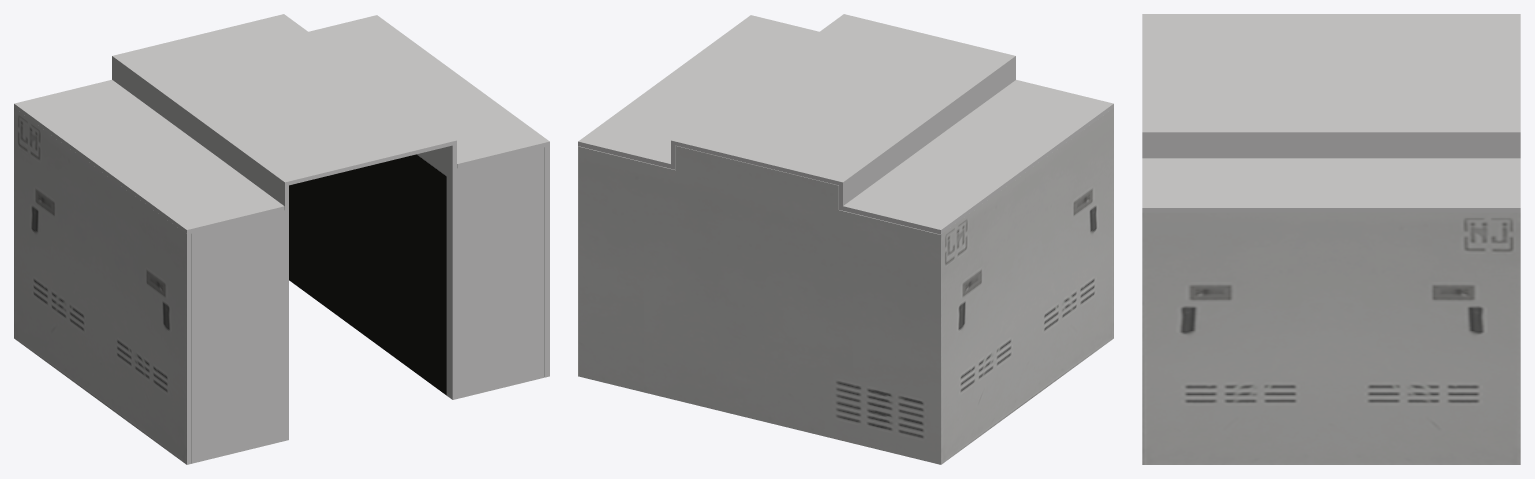
The model's file is YF_LS_daxiangzi.FBX.
The picture shows the model from 3 angles, left to right: view 1: azimuth 30°, elevation 25°; view 2: azimuth 150°, elevation 25°; view 3: azimuth 270°, elevation 25°; orthographic projection. The views are drawn at different scales.
Parts seen in each view (by area): view 1: YF_Model_daxiangzi; view 2: YF_Model_daxiangzi; view 3: YF_Model_daxiangzi.
Boxes of the visible parts, x1,y1,x2,y2 form: YF_Model_daxiangzi: (14, 14, 549, 464); YF_Model_daxiangzi: (578, 14, 1113, 464); YF_Model_daxiangzi: (1142, 14, 1520, 464).
Size of the model in its own units: 140 by 95.43 by 116.
1 material, 1 textured.
